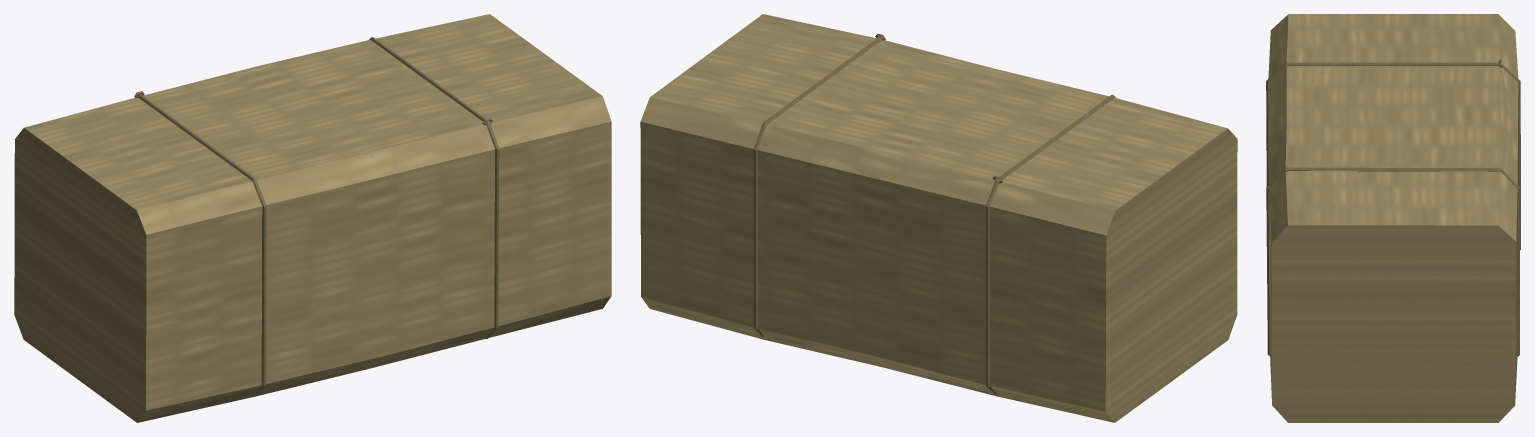
The model's file is farmland_hay_bale_rectangular.glb.
3 views of the same model, side by side, from view 1: azimuth 30°, elevation 25°; view 2: azimuth 150°, elevation 25°; view 3: azimuth 270°, elevation 25° (orthographic). The views are drawn at different scales.
Visible parts, largest first — view 1: HayBaleRectangular; view 2: HayBaleRectangular; view 3: HayBaleRectangular.
Boxes of the visible parts, x1,y1,x2,y2 form: HayBaleRectangular: (14, 14, 611, 422); HayBaleRectangular: (640, 14, 1237, 422); HayBaleRectangular: (1266, 14, 1520, 422).
Size of what is drawn, in the model's own units: 0.9 by 0.4088 by 0.4579.
1 material, 1 textured.
